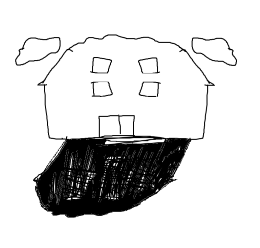clouds: (11, 27, 65, 70), (190, 28, 241, 70)
door: (93, 108, 141, 138)
open_window: (135, 78, 163, 104), (88, 77, 117, 101), (133, 56, 165, 77), (86, 53, 114, 76)
shadow: (24, 129, 194, 222)
single_line_roof: (31, 30, 221, 91)
wall: (41, 81, 212, 140)
